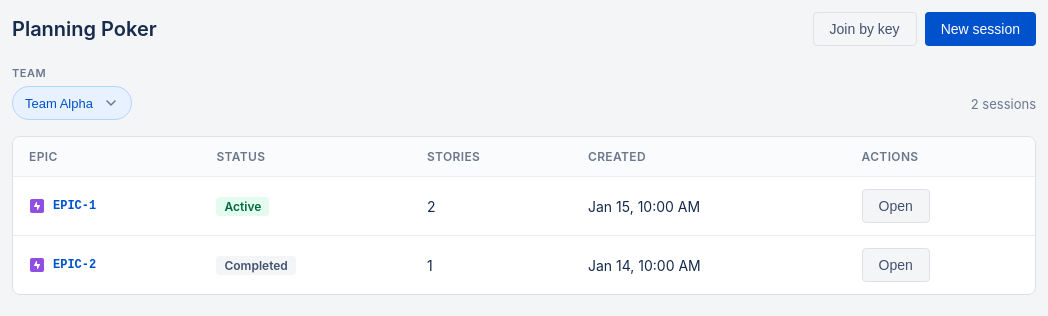
Test: PlanningPokerPage › Create session (epic picker) › should show inline epic picker on "New session" click
Click the button "New session".
click(980, 29)  # box [925, 12, 1036, 46]
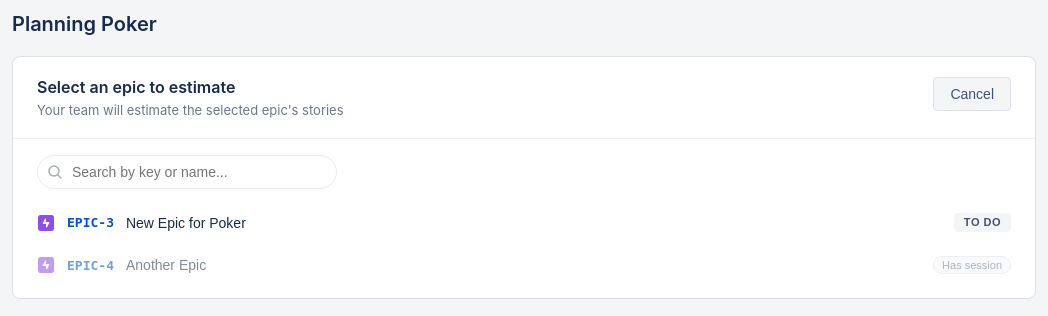
Now the heading "Select an epic to estimate" is shown, box [37, 77, 235, 97]
